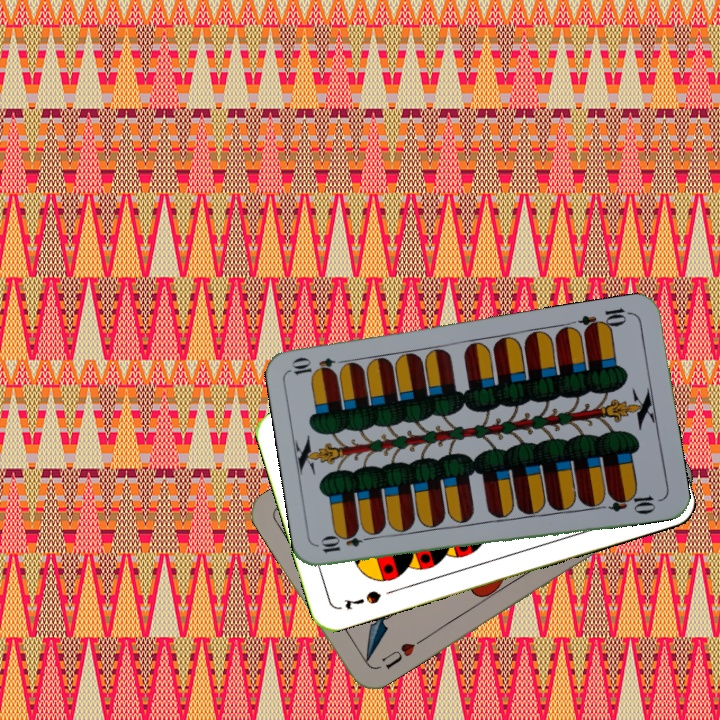E10: (575, 304, 634, 336), (317, 530, 376, 557)
HU: (377, 635, 425, 672)
S7: (340, 586, 384, 612)
